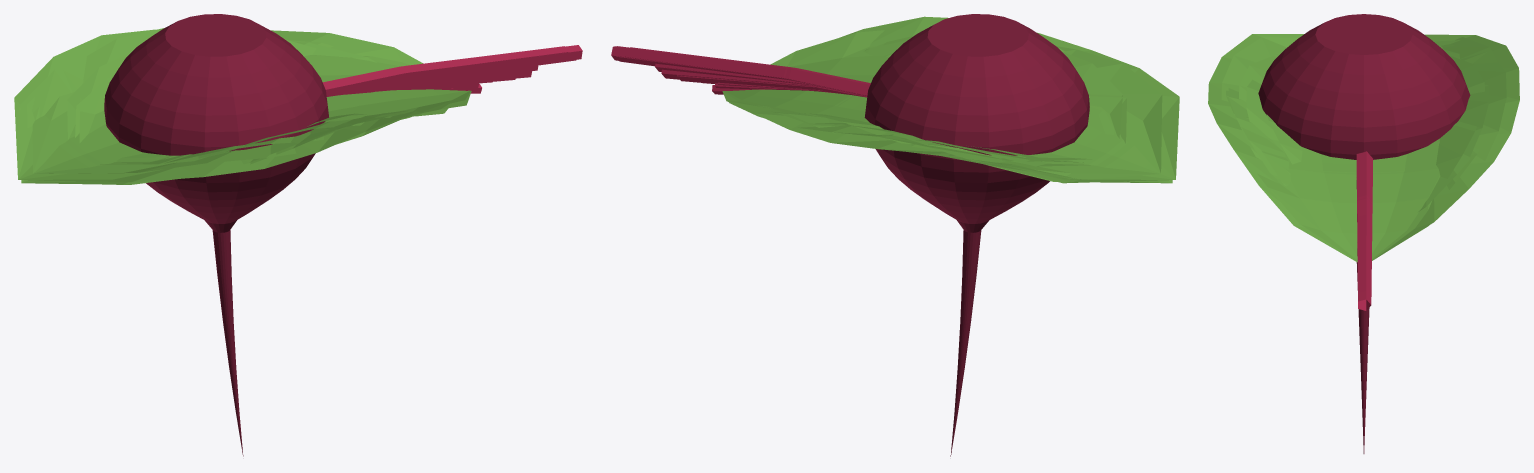
The model's file is beetroot_harvest_v03.articulated.glb.
The picture shows the model from 3 angles, left to right: view 1: azimuth 30°, elevation 25°; view 2: azimuth 150°, elevation 25°; view 3: azimuth 270°, elevation 25°; orthographic projection. The views are drawn at different scales.
Parts seen in each view (by area): view 1: root, leaf05_link2, leaf03_link2, leaf07_link2, leaf03_link0, leaf01_link0, leaf00_link2, leaf01_link2, leaf06_link2, leaf04_link2, leaf06_link0, leaf00_link0; view 2: root, leaf05_link2, leaf03_link2, leaf01_link0, leaf02_link2, leaf00_link2, leaf01_link2, leaf07_link2, leaf03_link0, leaf02_link0, leaf06_link0, leaf05_link0; view 3: root, leaf05_link2, leaf03_link2, leaf01_link2, leaf07_link2, leaf01_link0, leaf02_link2, leaf06_link2, leaf00_link2, leaf03_link0, leaf04_link2.
Boxes of the visible parts, <box> form: root: <box>104,14,328,456</box>; leaf05_link2: <box>32,28,470,173</box>; leaf03_link2: <box>14,29,471,182</box>; leaf07_link2: <box>18,42,406,184</box>; leaf03_link0: <box>326,45,582,96</box>; leaf01_link0: <box>322,46,568,89</box>; leaf00_link2: <box>67,52,410,164</box>; leaf01_link2: <box>79,39,411,161</box>; leaf06_link2: <box>27,40,448,184</box>; leaf04_link2: <box>75,77,366,164</box>; leaf06_link0: <box>362,71,531,93</box>; leaf00_link0: <box>357,65,538,93</box>; root: <box>864,14,1089,456</box>; leaf05_link2: <box>723,30,1162,181</box>; leaf03_link2: <box>722,16,1179,183</box>; leaf01_link0: <box>625,47,870,95</box>; leaf02_link2: <box>815,51,1122,156</box>; leaf00_link2: <box>853,40,1126,166</box>; leaf01_link2: <box>799,106,1113,161</box>; leaf07_link2: <box>761,36,1172,183</box>; leaf03_link0: <box>611,46,866,95</box>; leaf02_link0: <box>677,75,866,97</box>; leaf06_link0: <box>661,69,866,97</box>; leaf05_link0: <box>616,56,866,95</box>; root: <box>1258,14,1470,453</box>; leaf05_link2: <box>1221,37,1506,261</box>; leaf03_link2: <box>1208,34,1519,262</box>; leaf01_link2: <box>1246,79,1476,178</box>; leaf07_link2: <box>1226,37,1497,211</box>; leaf01_link0: <box>1356,151,1372,302</box>; leaf02_link2: <box>1239,55,1489,156</box>; leaf06_link2: <box>1228,40,1487,189</box>; leaf00_link2: <box>1262,53,1484,186</box>; leaf03_link0: <box>1356,159,1373,310</box>; leaf04_link2: <box>1266,114,1302,164</box>.
Bounding box in the file's own units: 0.19 × 0.139 × 0.0955.
Materials: 1 (1 with a texture image).
